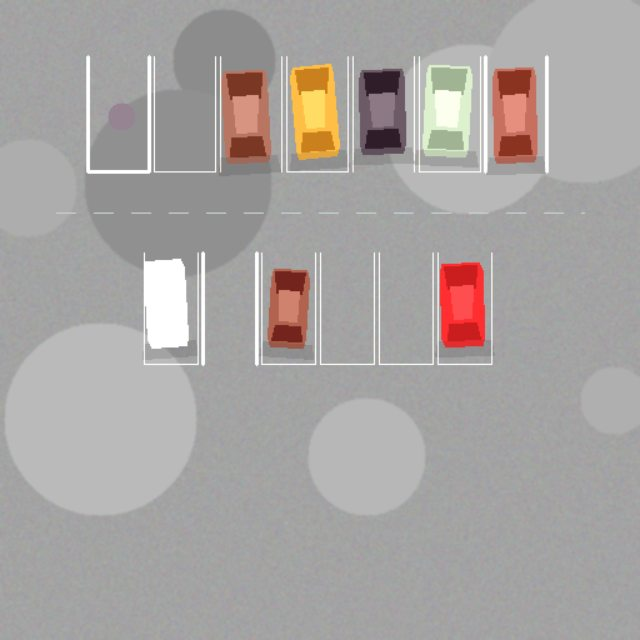space-empty: (87, 56, 149, 171), (154, 56, 215, 171), (202, 252, 256, 364), (320, 252, 374, 364), (379, 252, 432, 364)
space-occupied: (220, 56, 281, 171), (286, 56, 347, 171), (353, 56, 414, 171), (419, 56, 480, 171), (485, 56, 546, 171), (144, 252, 198, 364), (261, 252, 315, 364), (438, 252, 491, 364)
